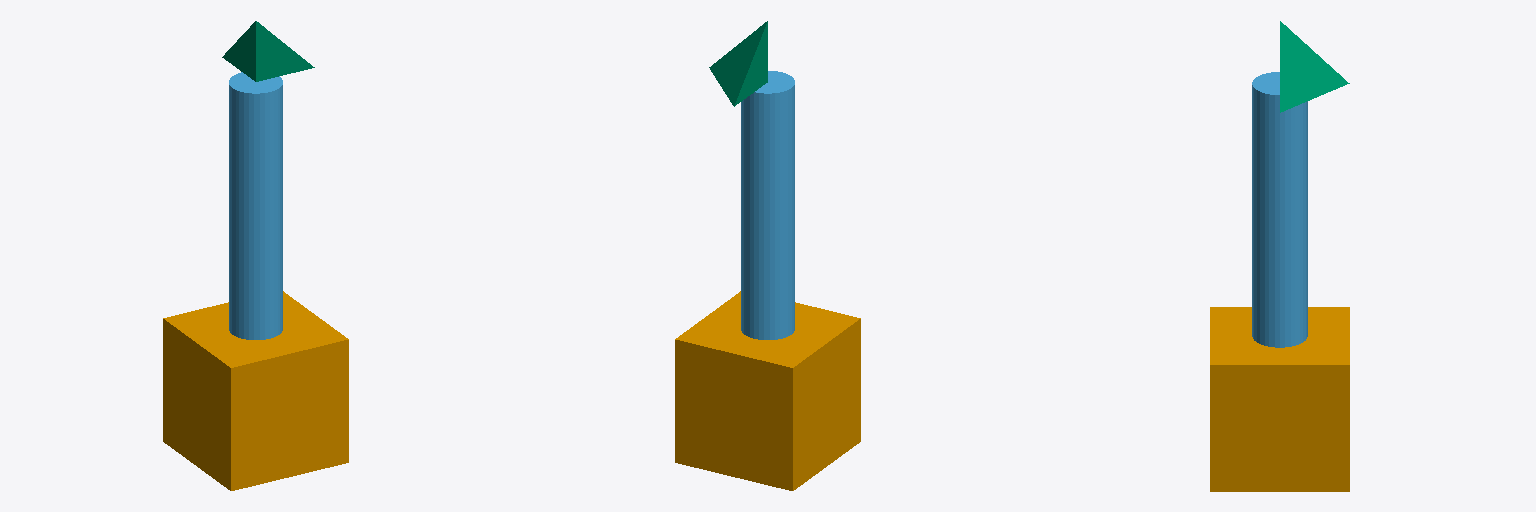
The robot description file, URDF, robot "three_link":
<?xml version="1.0"?>
<robot name="three_link">
  <link name="base_link">
    <inertial><mass value="1.0"/><inertia ixx="0.01" iyy="0.01" izz="0.01" ixy="0" ixz="0" iyz="0"/></inertial>
    <visual><geometry><mesh filename="package://three_link/meshes/base.stl"/></geometry></visual>
    <collision><geometry><mesh filename="package://three_link/meshes/base.stl"/></geometry></collision>
  </link>
  <joint name="shoulder" type="revolute">
    <parent link="base_link"/><child link="upper"/><origin xyz="0 0 0.05"/><axis xyz="0 1 0"/>
    <limit lower="-1.5" upper="1.5" effort="40" velocity="2"/>
  </joint>
  <link name="upper">
    <inertial><mass value="0.5"/><inertia ixx="0.001" iyy="0.001" izz="0.001" ixy="0" ixz="0" iyz="0"/></inertial>
    <visual><origin xyz="0 0 0.1"/><geometry><mesh filename="meshes/link.obj"/></geometry></visual>
    <collision><origin xyz="0 0 0.1"/><geometry><cylinder radius="0.02" length="0.2"/></geometry></collision>
  </link>
  <joint name="finger_slide" type="prismatic">
    <parent link="upper"/><child link="tip"/><origin xyz="0 0 0.2"/><axis xyz="1 0 0"/>
    <limit lower="0" upper="0.04" effort="50" velocity="0.1"/>
  </joint>
  <link name="tip">
    <inertial><mass value="0.1"/><inertia ixx="0.0001" iyy="0.0001" izz="0.0001" ixy="0" ixz="0" iyz="0"/></inertial>
    <visual><geometry><mesh filename="meshes/tip.dae"/></geometry></visual>
  </link>
  <gazebo><plugin name="ros_control" filename="libgazebo_ros_control.so"/></gazebo>
</robot>

--- Render facts (derived) ---
The picture shows the robot from 3 angles, left to right: view 1: azimuth 30°, elevation 25°; view 2: azimuth 150°, elevation 25°; view 3: azimuth 270°, elevation 25°; orthographic projection.
Model three_link with 3 links and 2 joints (1 revolute, 1 prismatic), rooted at base_link, posed all joints at 0.
Links seen in each view (by area): view 1: base_link, upper, tip; view 2: base_link, upper, tip; view 3: base_link, upper, tip.
Link boxes in pixels (<box>): base_link: <box>163,291,348,490</box>; upper: <box>229,72,282,339</box>; tip: <box>222,21,314,81</box>; base_link: <box>675,291,860,490</box>; upper: <box>741,71,794,339</box>; tip: <box>709,21,767,106</box>; base_link: <box>1210,307,1349,491</box>; upper: <box>1252,72,1307,347</box>; tip: <box>1280,21,1349,112</box>.
Bounding box of the posed robot: 0.1 × 0.1 × 0.35 m (x, y, z).
Meshes: 3 distinct files referenced, 3 mesh visuals loaded (1 binary STL, 1 Collada DAE, 1 OBJ).
